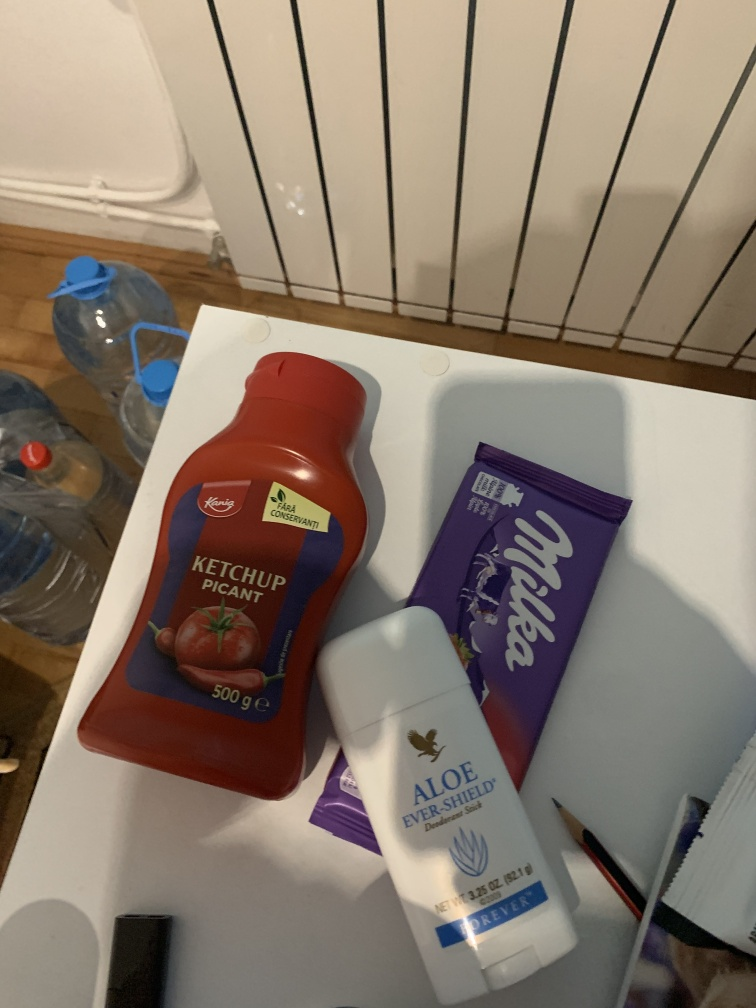ketchup: (71, 348, 372, 803)
milka: (310, 430, 641, 920)
